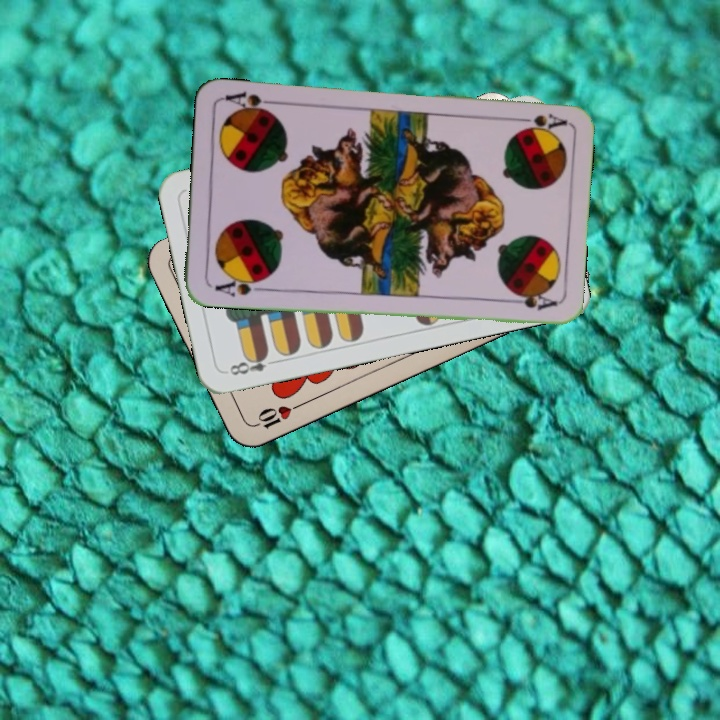E8: (225, 348, 281, 378)
H10: (247, 399, 304, 431)
SA: (211, 272, 268, 300), (510, 110, 569, 134)
